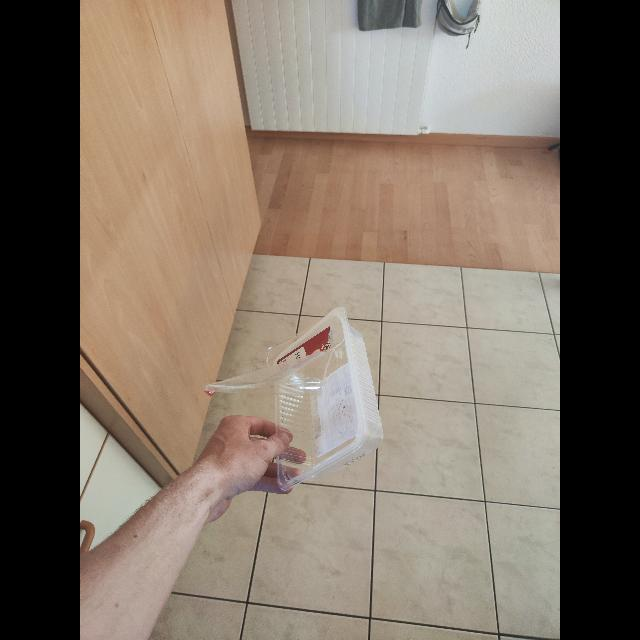Plastic: (204, 304, 380, 496)
